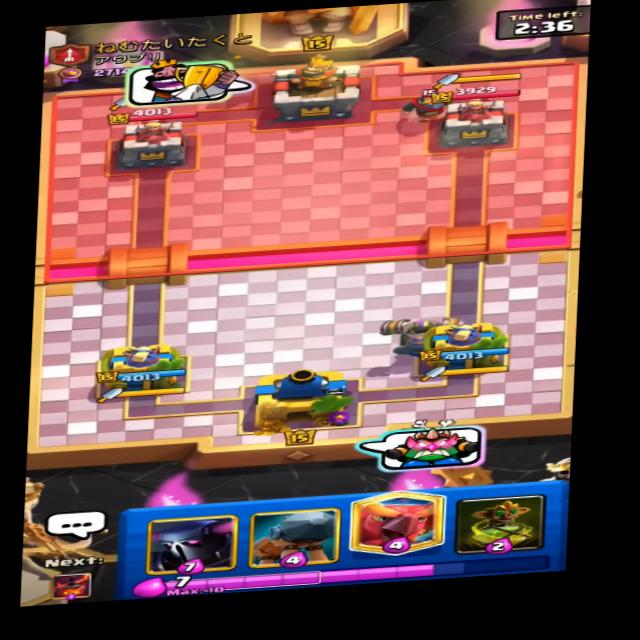knight: (404, 85, 463, 123)
